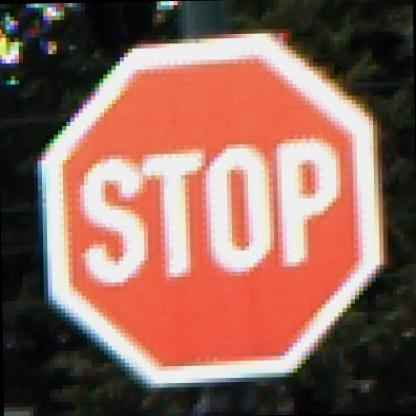stop: (32, 34, 391, 406)
